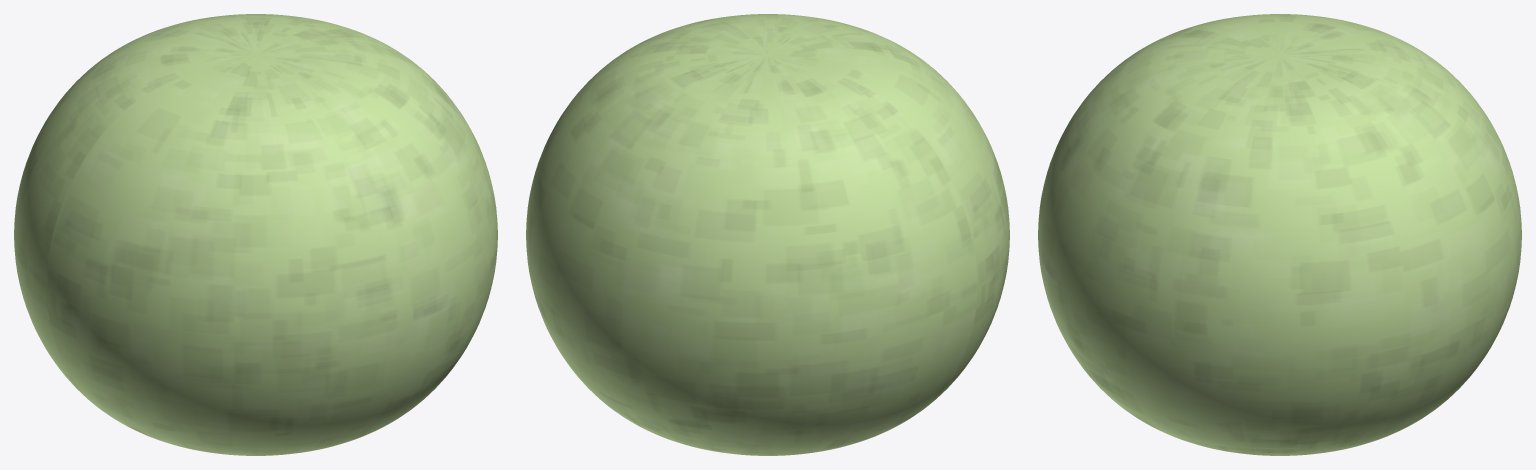
Rendered from honeydew.glb.
The picture shows the model from 3 angles, left to right: view 1: azimuth 30°, elevation 25°; view 2: azimuth 150°, elevation 25°; view 3: azimuth 270°, elevation 25°; orthographic projection.
Bounding box in the file's own units: 0.17 × 0.1394 × 0.17.
Materials: 1 (1 with a texture image).
